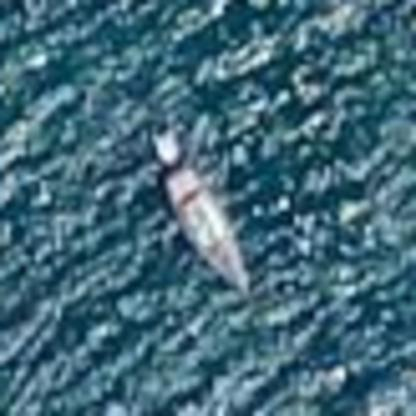ship: (128, 114, 270, 301)
